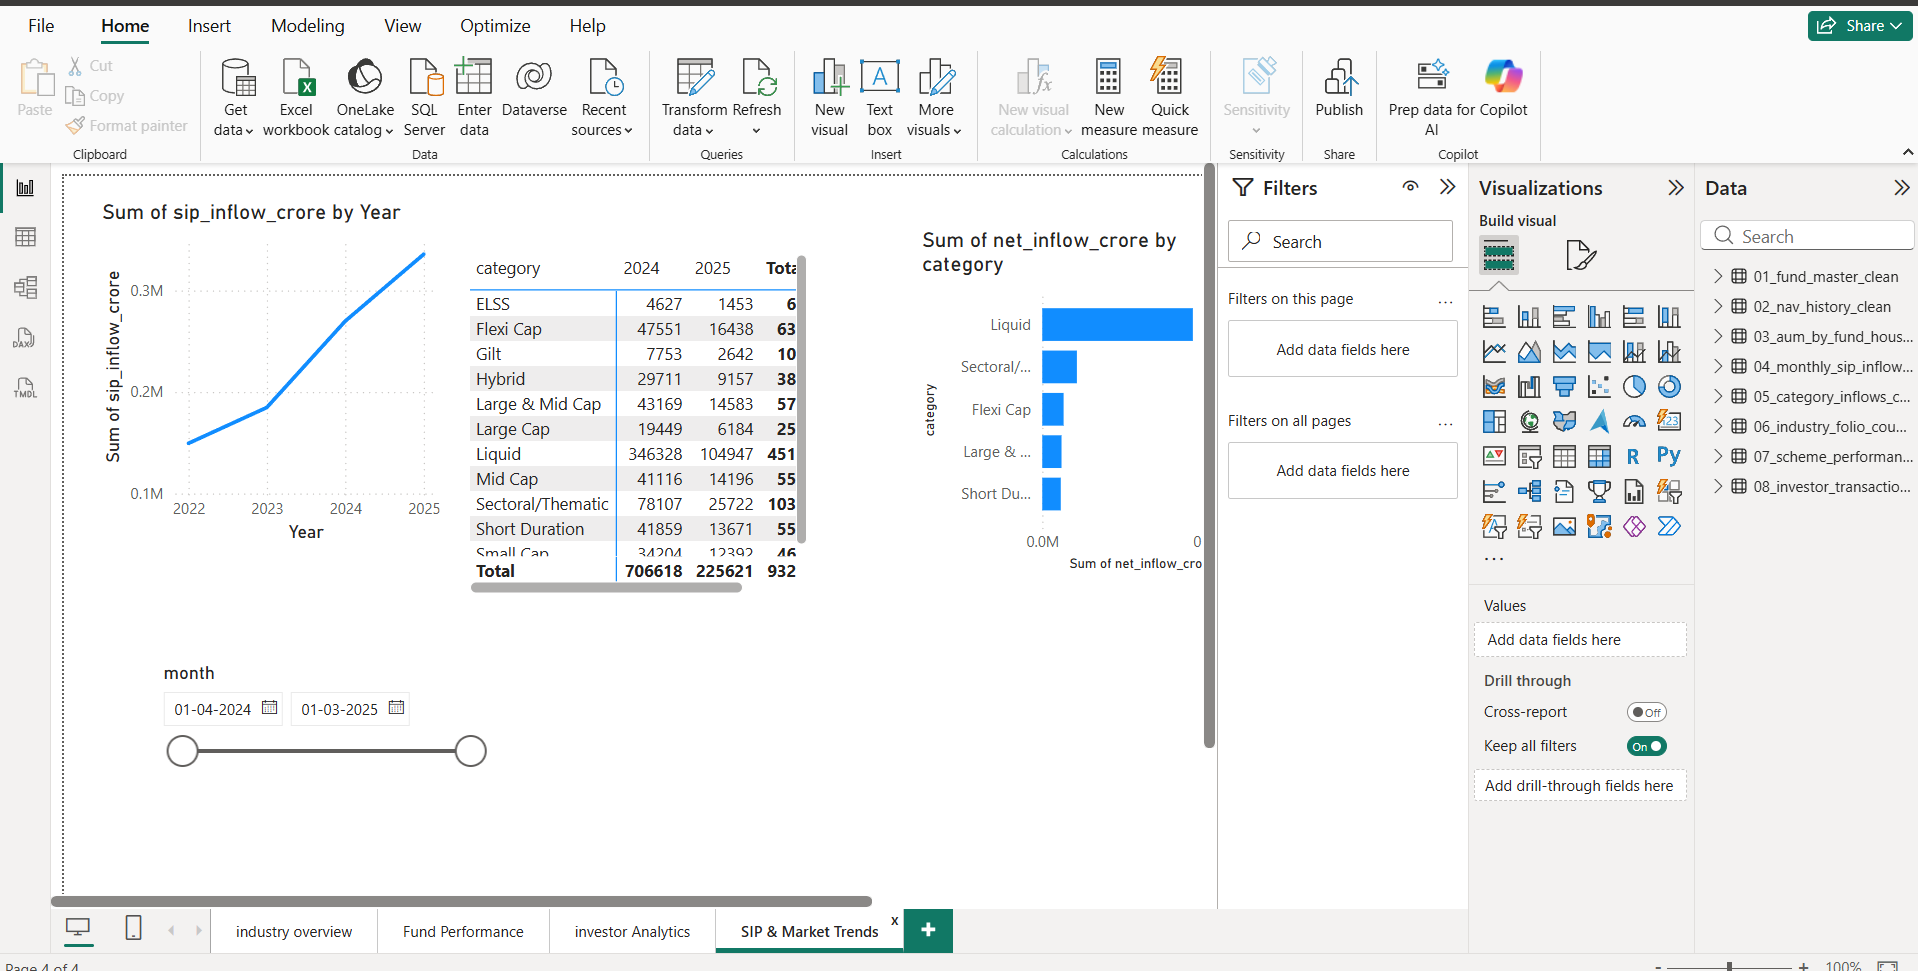

The page's visual inventory and layout, read from the dashboard file:
{"tool":"powerbi","page":{"name":"SIP & Market Trends","canvas":[1280,720],"ordinal":3},"visuals":[{"type":"lineChart","fields":{"Category":["04_monthly_sip_inflows_clean.month.Variation.Date Hierarchy.Year","04_monthly_sip_inflows_clean.month.Variation.Date Hierarchy.Quarter","04_monthly_sip_inflows_clean.month.Variation.Date Hierarchy.Month","04_monthly_sip_inflows_clean.month.Variation.Date Hierarchy.Day"],"Y":["Sum(04_monthly_sip_inflows_clean.sip_inflow_crore)"]},"box":[26.1,17.8,279.9,279.9],"z":0},{"type":"pivotTable","fields":{"Rows":["05_category_inflows_clean.category"],"Columns":["05_category_inflows_clean.month.Variation.Date Hierarchy.Year","05_category_inflows_clean.month.Variation.Date Hierarchy.Quarter","05_category_inflows_clean.month.Variation.Date Hierarchy.Month","05_category_inflows_clean.month.Variation.Date Hierarchy.Day"],"Values":["Sum(05_category_inflows_clean.net_inflow_crore)"]},"box":[319.7,57.6,279.9,281.3],"z":1},{"type":"clusteredBarChart","fields":{"Category":["05_category_inflows_clean.category"],"Y":["Sum(05_category_inflows_clean.net_inflow_crore)"]},"box":[682,41.2,279.9,279.9],"z":2},{"type":"slicer","fields":{"Values":["05_category_inflows_clean.month"]},"box":[67.2,384.2,279.9,279.9],"z":3}]}

Visuals, with their boxes on the page's 1280x720 design canvas (x1, y1, x2, y2). These are canvas units, not pixel positions in the 1918x971 screenshot, which may show the page scaled, cropped or inside an application window:
lineChart - 04_monthly_sip_inflows_clean.month.Variation.Date Hierarchy.Year x 04_monthly_sip_inflows_clean.month.Variation.Date Hierarchy.Quarter: <bbox>26, 18, 306, 298</bbox>
pivotTable - 05_category_inflows_clean.category x 05_category_inflows_clean.month.Variation.Date Hierarchy.Year: <bbox>320, 58, 600, 339</bbox>
clusteredBarChart - 05_category_inflows_clean.category x Sum(05_category_inflows_clean.net_inflow_crore): <bbox>682, 41, 962, 321</bbox>
slicer - 05_category_inflows_clean.month: <bbox>67, 384, 347, 664</bbox>
